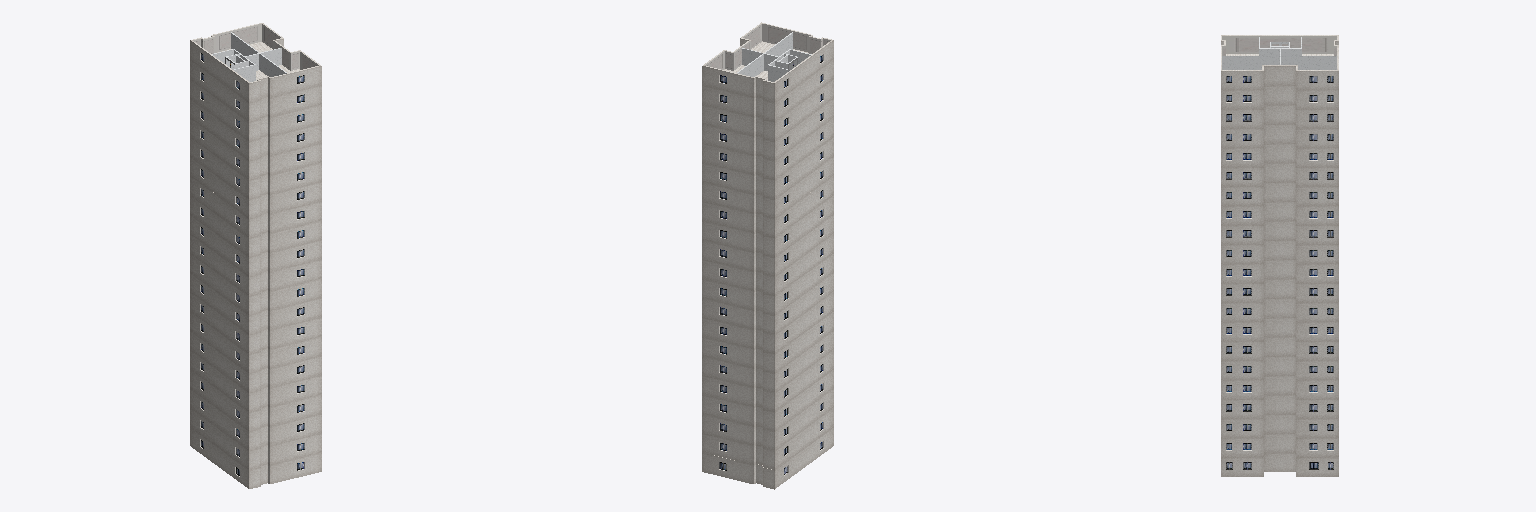
3 renders of one model, left to right at view 1: azimuth 30°, elevation 25°; view 2: azimuth 150°, elevation 25°; view 3: azimuth 270°, elevation 25°, orthographic.
Parts seen in each view (by area): view 1: floor_common_021, floor_common_005, floor_common_008, floor_common_2, floor_common_003, floor_common_006, floor_common_009, floor_common_011, floor_common_012, floor_common_018, floor_common_019, floor_common_014 (+9 smaller); view 2: floor_common_021, floor_common_1, floor_common_012, floor_common_009, floor_common_018, floor_common_020, floor_common_006, floor_common_010, floor_common_015, floor_common_2, floor_common_003, floor_common_005 (+9 smaller); view 3: floor_common_021, floor_common_1, floor_common_004, floor_common_007, floor_common_010, floor_common_013, floor_common_016, floor_common_019, floor_common_003, floor_common_006, floor_common_009, floor_common_012 (+9 smaller).
Part boxes in pixels (left/top/right/bottom): floor_common_021: left=190, top=23, right=321, bottom=102; floor_common_005: left=190, top=350, right=321, bottom=411; floor_common_008: left=190, top=292, right=321, bottom=353; floor_common_2: left=190, top=408, right=321, bottom=469; floor_common_003: left=190, top=388, right=321, bottom=450; floor_common_006: left=190, top=330, right=321, bottom=392; floor_common_009: left=190, top=272, right=321, bottom=334; floor_common_011: left=190, top=234, right=321, bottom=295; floor_common_012: left=190, top=214, right=321, bottom=276; floor_common_018: left=190, top=98, right=321, bottom=160; floor_common_019: left=190, top=79, right=321, bottom=140; floor_common_014: left=190, top=176, right=321, bottom=237; floor_common_021: left=702, top=22, right=833, bottom=102; floor_common_1: left=702, top=427, right=833, bottom=489; floor_common_012: left=702, top=214, right=833, bottom=276; floor_common_009: left=702, top=272, right=833, bottom=334; floor_common_018: left=702, top=98, right=833, bottom=160; floor_common_020: left=702, top=60, right=833, bottom=121; floor_common_006: left=702, top=330, right=833, bottom=392; floor_common_010: left=702, top=253, right=833, bottom=314; floor_common_015: left=702, top=156, right=833, bottom=218; floor_common_2: left=702, top=408, right=833, bottom=469; floor_common_003: left=702, top=388, right=833, bottom=450; floor_common_005: left=702, top=350, right=833, bottom=411; floor_common_021: left=1221, top=35, right=1338, bottom=89; floor_common_1: left=1221, top=453, right=1338, bottom=476; floor_common_004: left=1221, top=395, right=1338, bottom=418; floor_common_007: left=1221, top=337, right=1338, bottom=360; floor_common_010: left=1221, top=279, right=1338, bottom=302; floor_common_013: left=1221, top=221, right=1338, bottom=244; floor_common_016: left=1221, top=163, right=1338, bottom=186; floor_common_019: left=1221, top=105, right=1338, bottom=128; floor_common_003: left=1221, top=414, right=1338, bottom=437; floor_common_006: left=1221, top=356, right=1338, bottom=379; floor_common_009: left=1221, top=298, right=1338, bottom=321; floor_common_012: left=1221, top=240, right=1338, bottom=263.
Bounding box in the file's own units: 65.84 × 353 × 93.54.
Materials: 8 (6 with a texture image).